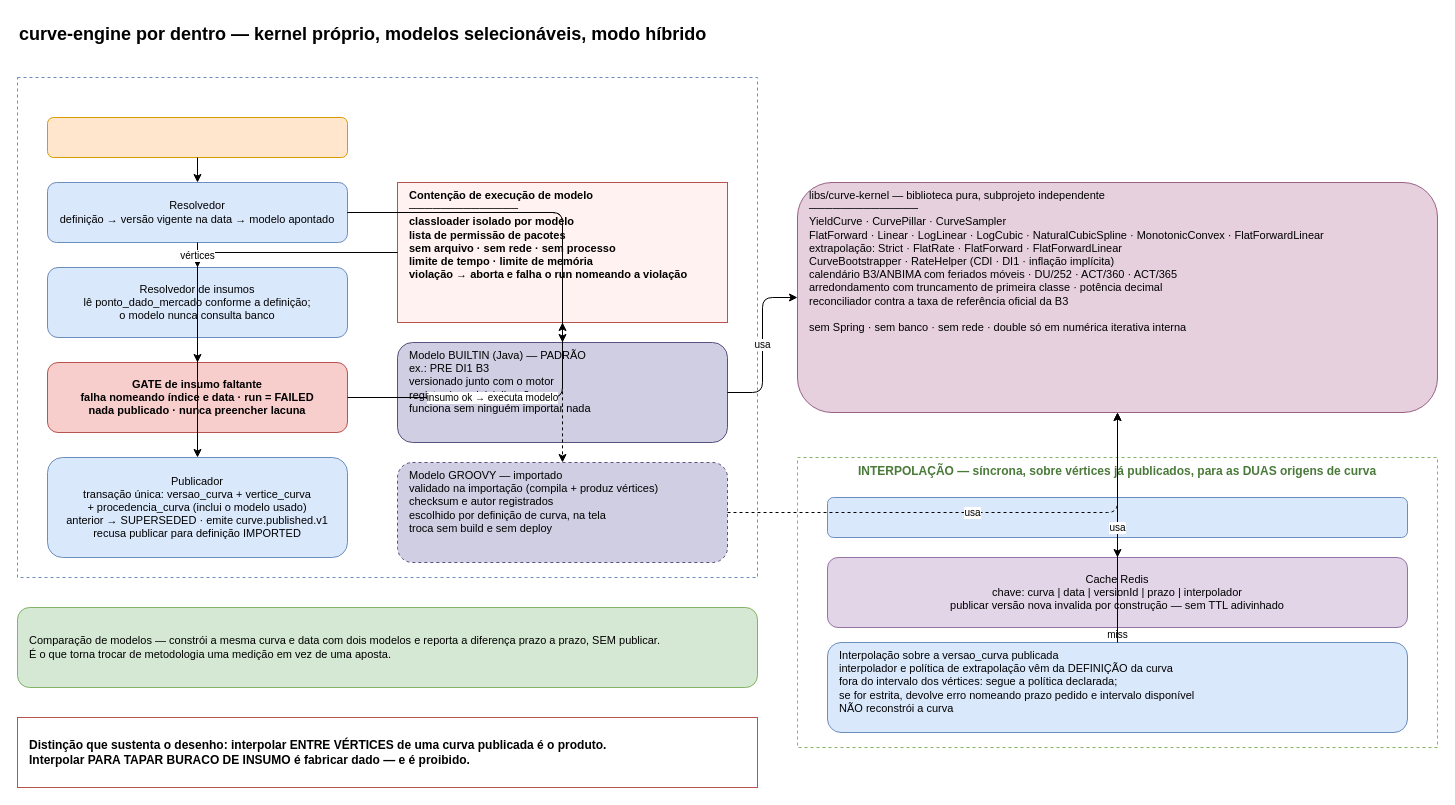
The diagram is 1455 pixels wide and 805 high, and some of its shapes have lost their labels. The box of each missing label's shape, as (x1, y1, x2, y2) in pixels:
consome curve.build.requested.v1: (46, 116, 348, 158)
CONSTRUÇÃO — assíncrona, disparada por evento, resultado persistido: (16, 76, 758, 578)
GET curva interpolada (curva, data, prazo[, versão]): (826, 496, 1408, 538)
